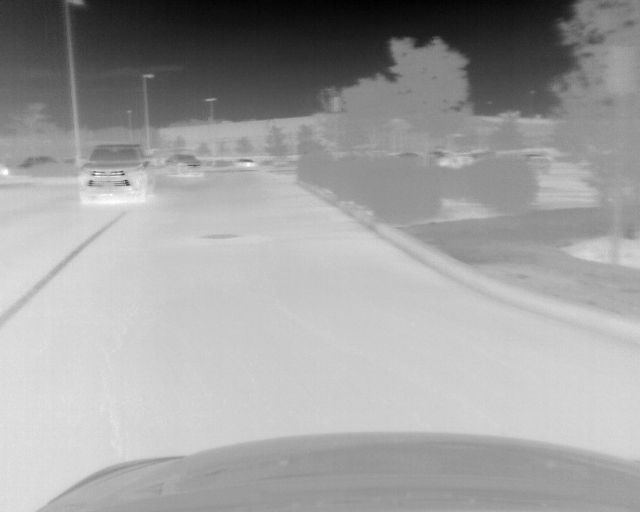car: (79, 143, 155, 203), (164, 154, 204, 178), (236, 156, 254, 170)
